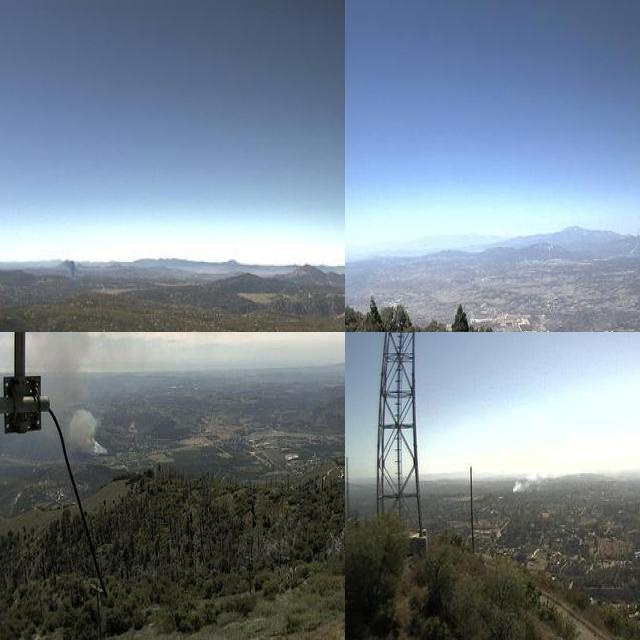smoke: (28, 332, 113, 462), (506, 461, 559, 497), (608, 204, 640, 260), (58, 252, 80, 284)
